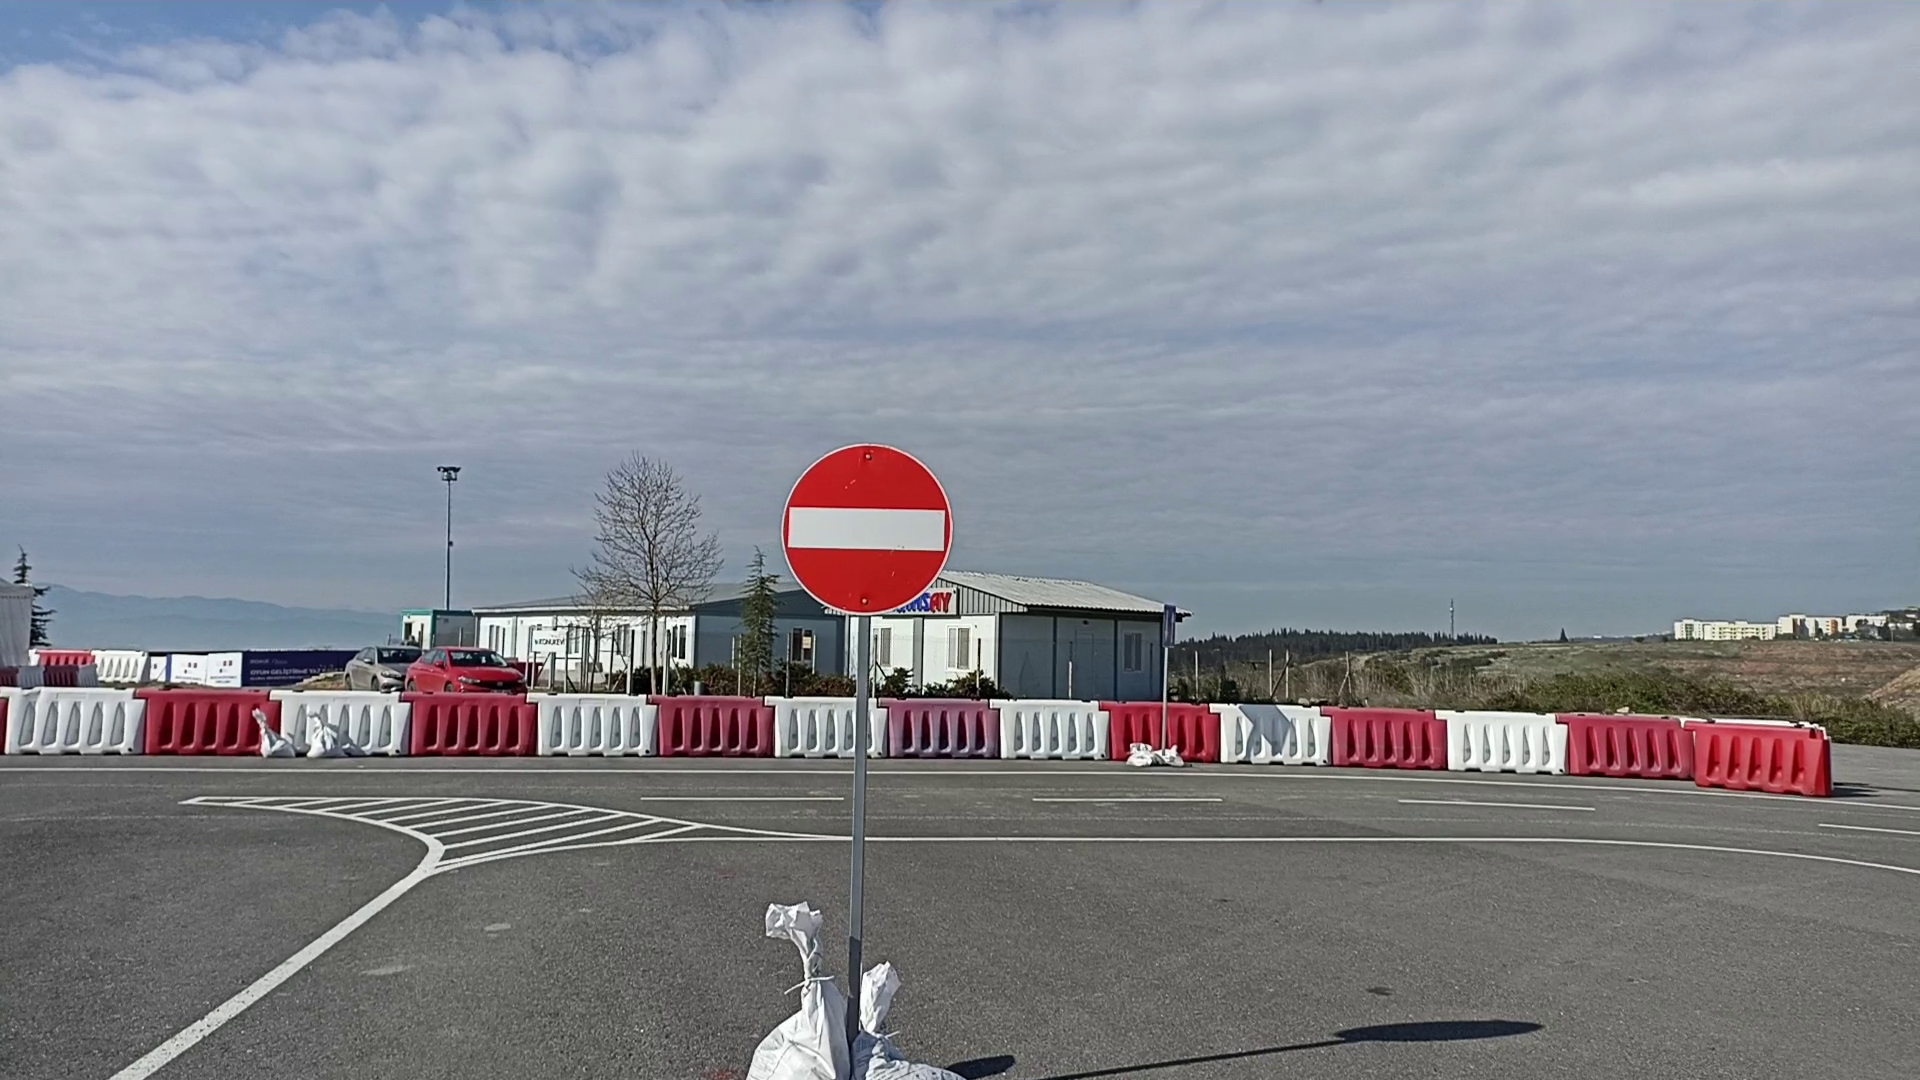noentryway: (779, 440, 957, 618)
